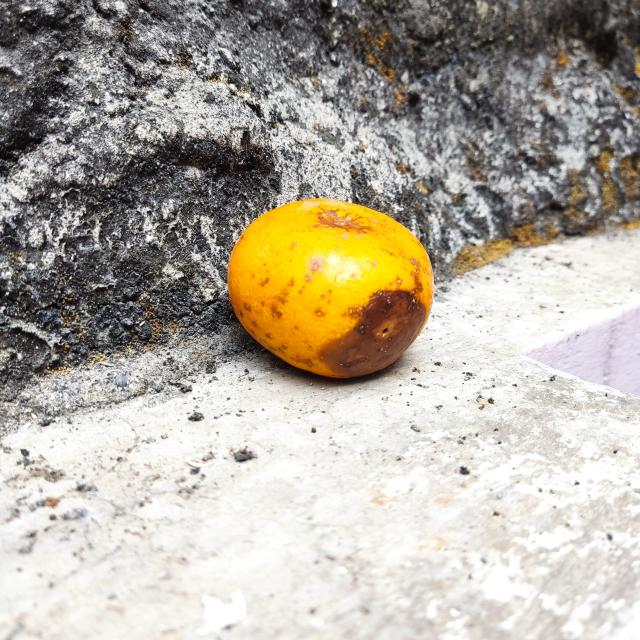orange: (224, 194, 435, 384)
